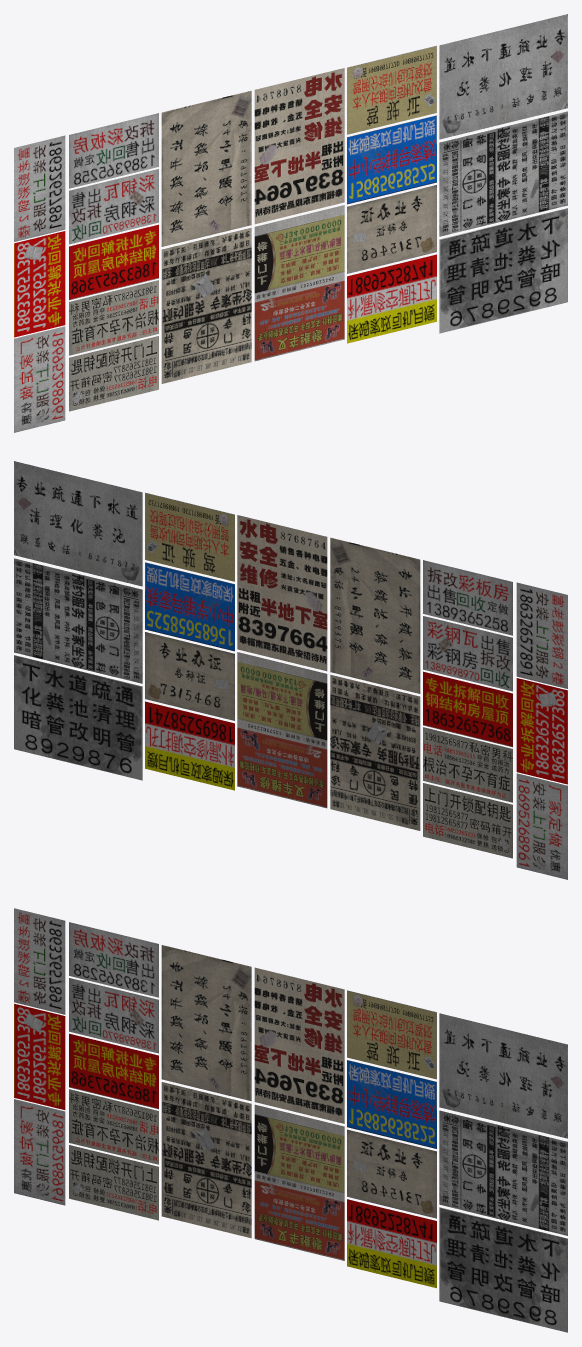
The model's file is Ads.fbx.
3 views of the same model, one above another, from view 1: azimuth 30°, elevation 25°; view 2: azimuth 150°, elevation 25°; view 3: azimuth 330°, elevation 25° (orthographic).
Parts seen in each view (by area): view 1: Plane.009, Plane.011, Plane.008, Plane.010, Plane.014, Plane.017, Plane.018, Plane.012, Plane.013, Plane.016, Plane.015, Plane.004 (+7 smaller); view 2: Plane.009, Plane.011, Plane.008, Plane.010, Plane.014, Plane.017, Plane.018, Plane.012, Plane.013, Plane.016, Plane.015, Plane.004 (+7 smaller); view 3: Plane.009, Plane.010, Plane.011, Plane.008, Plane.017, Plane.018, Plane.014, Plane.012, Plane.015, Plane.013, Plane.016, Plane (+7 smaller).
Boxes of the visible parts, <box> form: Plane.009: <box>161,227,251,383</box>; Plane.011: <box>254,68,344,224</box>; Plane.008: <box>161,90,251,246</box>; Plane.010: <box>254,205,344,361</box>; Plane.014: <box>439,14,567,139</box>; Plane.017: <box>439,111,567,236</box>; Plane.018: <box>439,208,567,333</box>; Plane.012: <box>347,45,436,134</box>; Plane.013: <box>347,115,436,204</box>; Plane.016: <box>347,185,436,273</box>; Plane.015: <box>347,254,436,343</box>; Plane.004: <box>14,231,65,337</box>; Plane.009: <box>330,674,420,830</box>; Plane.011: <box>237,515,327,671</box>; Plane.008: <box>330,537,420,693</box>; Plane.010: <box>237,652,327,808</box>; Plane.014: <box>14,461,142,586</box>; Plane.017: <box>14,558,142,683</box>; Plane.018: <box>14,655,142,780</box>; Plane.012: <box>145,492,234,581</box>; Plane.013: <box>145,562,234,651</box>; Plane.016: <box>145,632,234,720</box>; Plane.015: <box>145,701,234,790</box>; Plane.004: <box>516,678,567,784</box>; Plane.009: <box>161,1082,251,1238</box>; Plane.010: <box>254,1104,344,1260</box>; Plane.011: <box>254,967,344,1123</box>; Plane.008: <box>161,945,251,1101</box>; Plane.017: <box>439,1110,567,1235</box>; Plane.018: <box>439,1207,567,1332</box>; Plane.014: <box>439,1013,567,1138</box>; Plane.012: <box>347,990,436,1079</box>; Plane.015: <box>347,1199,436,1288</box>; Plane.013: <box>347,1060,436,1148</box>; Plane.016: <box>347,1129,436,1218</box>; Plane: <box>14,908,65,1014</box>.
Bounding box in the file's own units: 862 × 430 × 8.48e-05.
